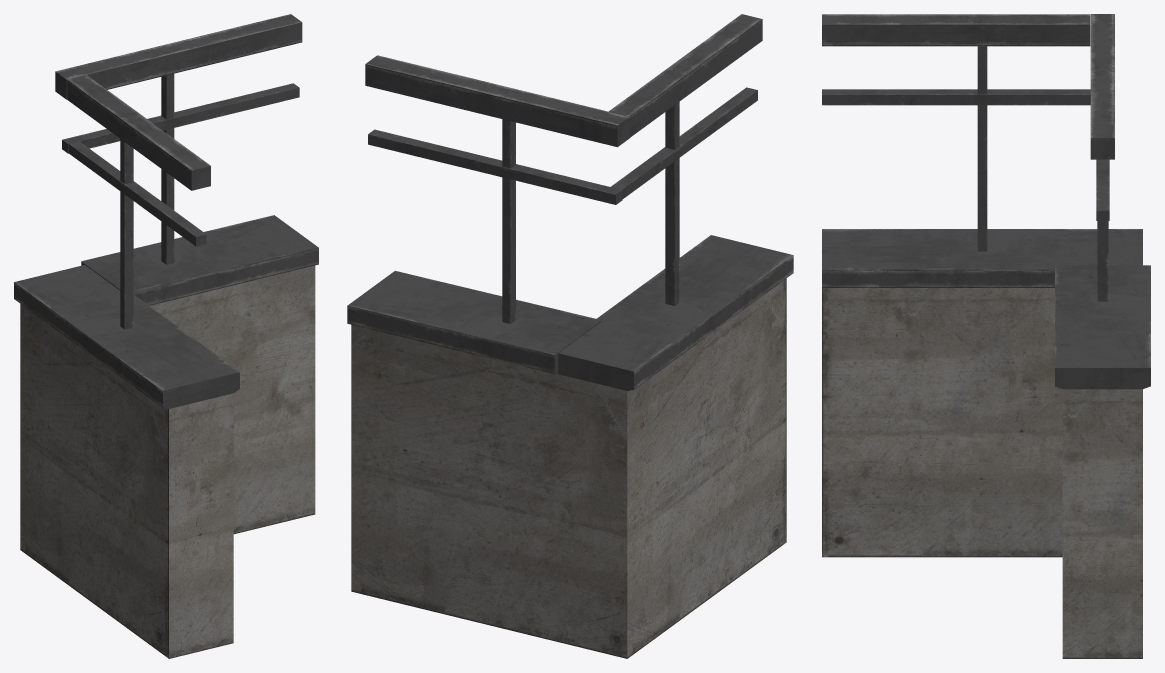
The model's file is CP_Parapet_D_Angle_Out.fbx.
3 views of the same model, side by side, from view 1: azimuth 30°, elevation 25°; view 2: azimuth 150°, elevation 25°; view 3: azimuth 270°, elevation 25° (orthographic). The views are drawn at different scales.
Visible parts, largest first — view 1: CP_Parapet_D_Angle_Out; view 2: CP_Parapet_D_Angle_Out; view 3: CP_Parapet_D_Angle_Out.
Boxes of the visible parts, x1,y1,x2,y2 form: CP_Parapet_D_Angle_Out: (14, 14, 318, 658); CP_Parapet_D_Angle_Out: (347, 14, 793, 658); CP_Parapet_D_Angle_Out: (822, 14, 1150, 658).
Bounding box in the file's own units: 102 × 179 × 102.
